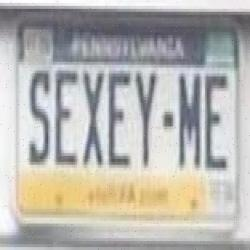LicensePlate: (7, 11, 243, 246)
